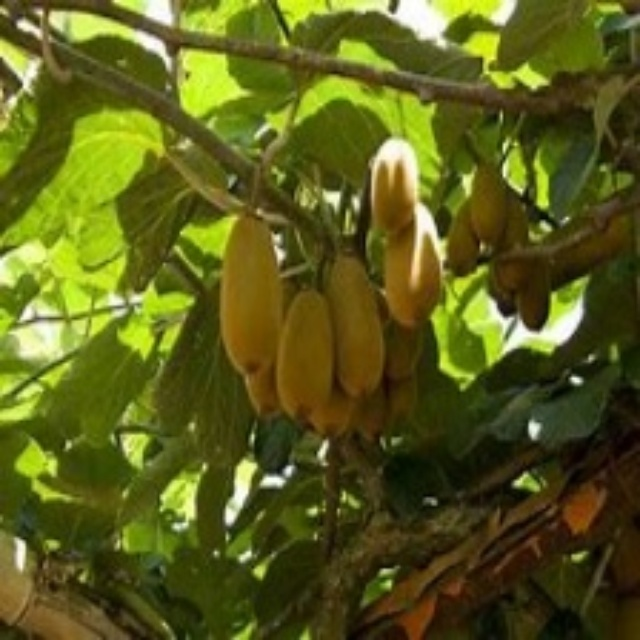kiwi: (441, 181, 558, 341), (273, 277, 388, 415), (364, 151, 450, 328), (216, 212, 286, 366)
